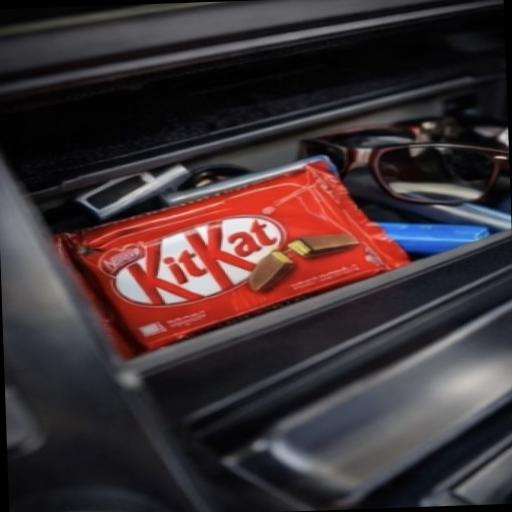kitkat: (25, 153, 512, 394)
